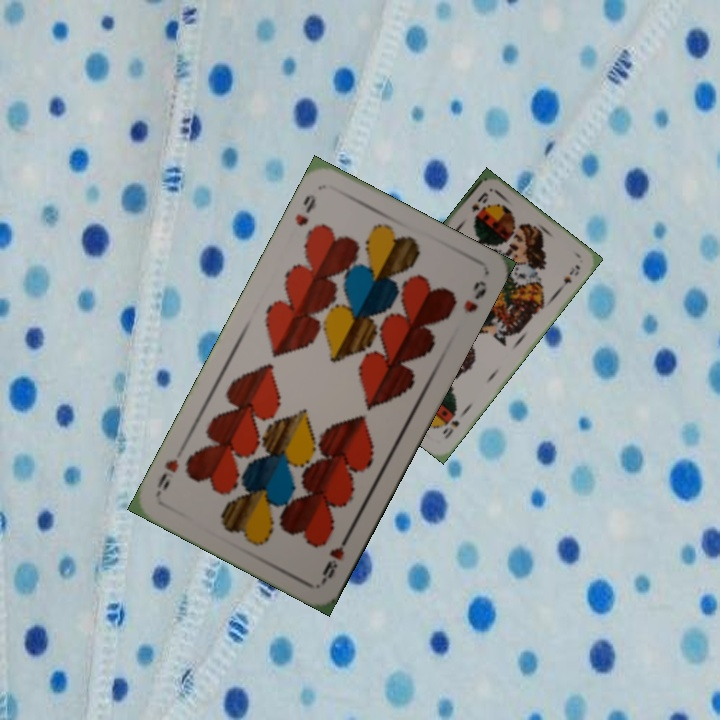H9: (318, 529, 353, 584), (290, 190, 319, 229)
SO: (438, 416, 462, 442), (468, 188, 491, 215)
